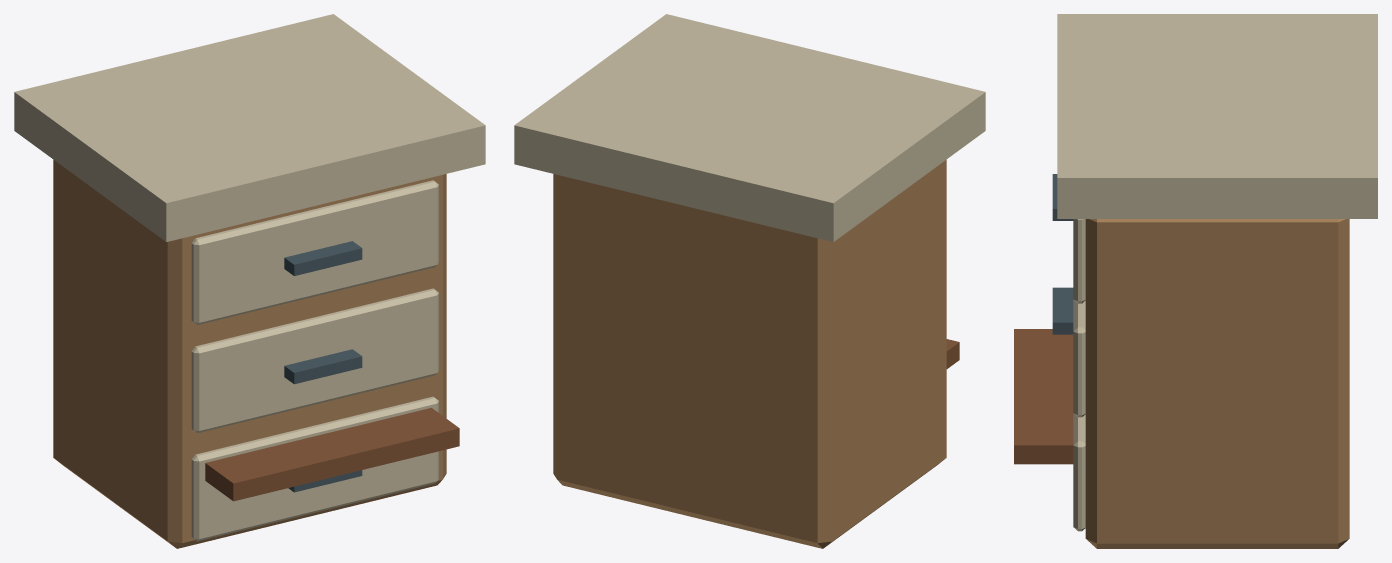
The model's file is beehive.glb.
3 views of the same model, side by side, from view 1: azimuth 30°, elevation 25°; view 2: azimuth 150°, elevation 25°; view 3: azimuth 270°, elevation 25° (orthographic). The views are drawn at different scales.
Visible parts, largest first — view 1: beehive; view 2: beehive; view 3: beehive.
Boxes of the visible parts, x1,y1,x2,y2 form: beehive: (14, 14, 485, 548); beehive: (514, 14, 985, 548); beehive: (1014, 14, 1377, 548).
Size of the model in its own units: 1.03 by 1.13 by 0.965.
